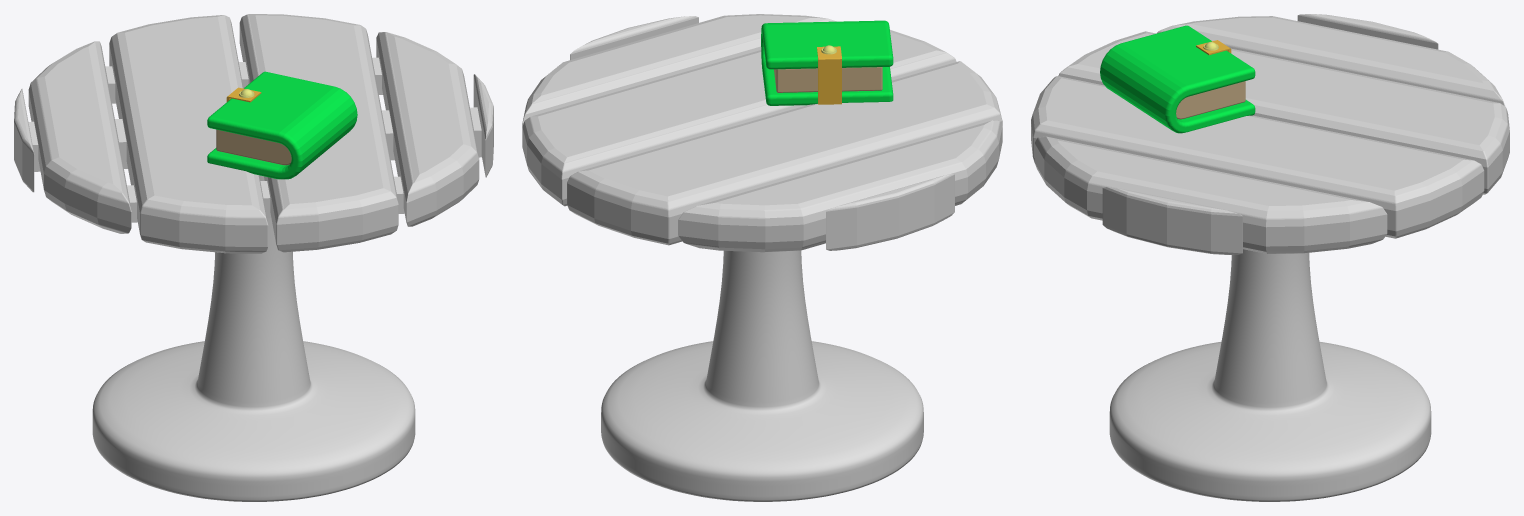
File: santaworkshop_tafel.fbx
The picture shows the model from 3 angles, left to right: view 1: azimuth 30°, elevation 25°; view 2: azimuth 150°, elevation 25°; view 3: azimuth 270°, elevation 25°; orthographic projection.
Visible parts, largest first — view 1: Sphere.119; view 2: Sphere.119; view 3: Sphere.119.
Boxes of the visible parts, bbox=[...] form: Sphere.119: bbox=[14, 14, 493, 501]; Sphere.119: bbox=[522, 14, 1002, 501]; Sphere.119: bbox=[1031, 14, 1509, 501].
Size of the model in its own units: 210 by 182 by 210.
